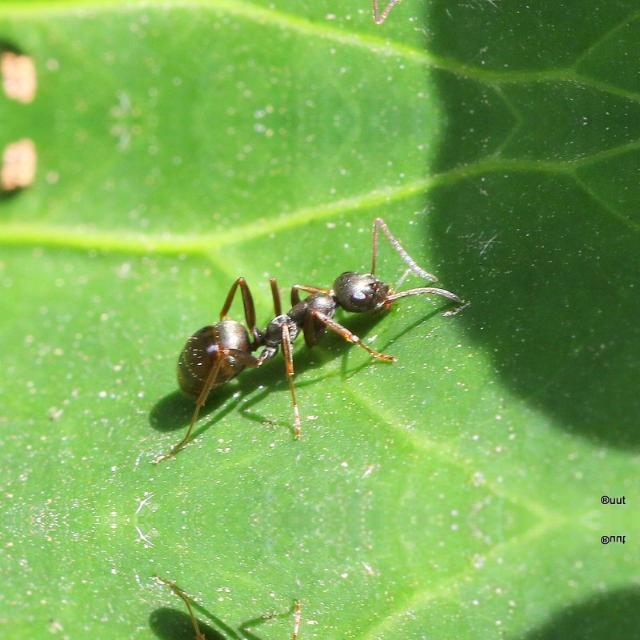Formica: (156, 221, 400, 411)
